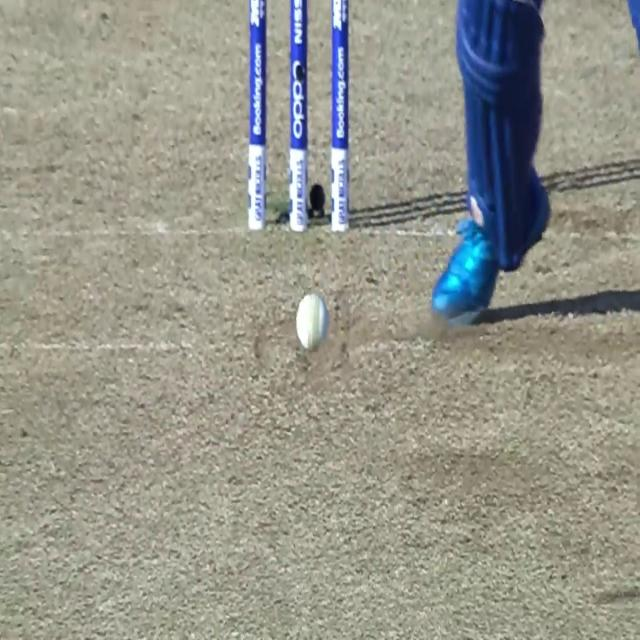ball: (298, 292, 328, 349)
